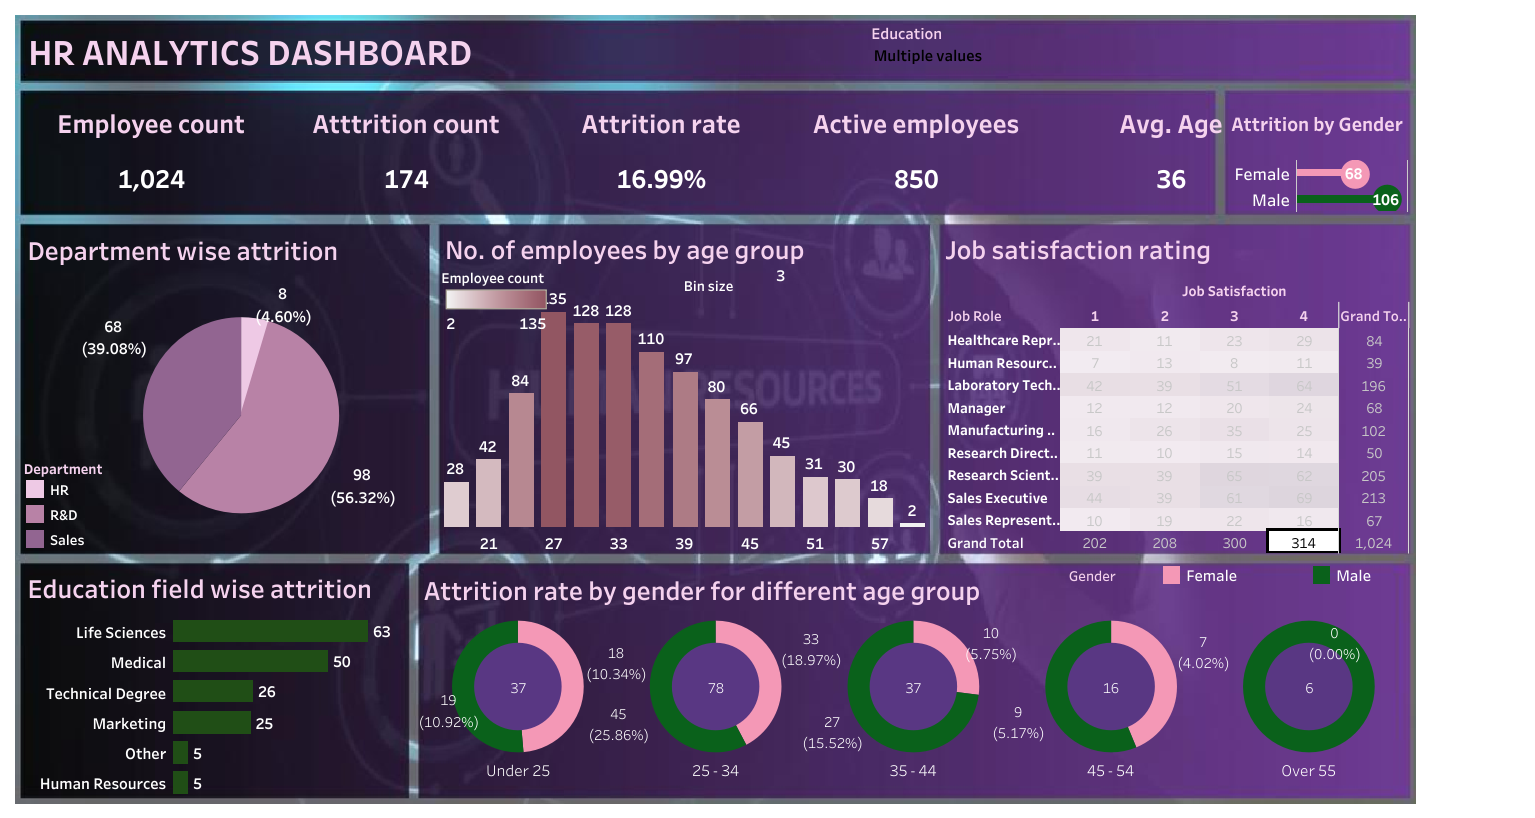

This screenshot's page, from the dashboard's own definition file:
{"tool":"tableau","page":{"name":"HR Analytics Dashboard","canvas":[1229,655],"ordinal":0},"visuals":[{"type":"image","param":"Image/Untitled presentation.jpg","box":[8,8,1213,639]},{"type":"text","box":[20.3,16,461.7,49.1]},{"type":"filter","title":"No. of employees by age group","param":"[federated.0ces5ai0ky8ia414cds3l0cklp27].[none:Education:nk]","box":[696.8,16,184.9,48.9]},{"type":"worksheet","title":"Attrition by gender","mark":"Automatic","rows":["Gender"],"cols":["Calculation_2573947963849408512","Calculation_2573947963849408512"],"box":[981,71,146,99]},{"type":"worksheet","title":"KPI","mark":"Automatic","box":[19.2,72.1,1019.5,100.2]},{"type":"worksheet","title":"No. of employees by age group","mark":"Automatic","rows":["Employee Count"],"cols":["Age (bin)"],"box":[352,179,391,264]},{"type":"worksheet","title":"Job satisfaction rating","mark":"Square","rows":["Job Role"],"cols":["Job Satisfaction"],"box":[752,179,375,263]},{"type":"worksheet","title":"Department wise attrition","mark":"Pie","box":[18.2,179.7,348.4,261.6]},{"type":"parameter","param":"[Parameters].[Parameter 1]","box":[547,211,199,34]},{"type":"legend","title":"No. of employees by age group","param":"[federated.0ces5ai0ky8ia414cds3l0cklp27].[sum:Employee Count:qk]","box":[351,212,103,48]},{"type":"legend","title":"Department wise attrition","param":"[federated.0ces5ai0ky8ia414cds3l0cklp27].[none:Department:nk]","box":[18.2,365.4,114.3,75.9]},{"type":"worksheet","title":"Education field wise attrition","mark":"Automatic","rows":["Education Field"],"cols":["Calculation_2573947963849408512"],"box":[18,450,308,188]},{"type":"legend","title":"Attrition rate by gender for different age group","param":"[federated.0ces5ai0ky8ia414cds3l0cklp27].[none:Gender:nk]","box":[855,450.3,354.8,32.9]},{"type":"worksheet","title":"Attrition rate by gender for different age group","mark":"Pie","rows":["Calculation_2573947964193075204","Calculation_2573947964193075204"],"cols":["CF_age band"],"box":[335,452,791,186]}]}

Visuals, with their boxes in screenshot pixels (x1, y1, x2, y2), scaled from the page's 1229x655 canvas onto the 1535x818 screenshot:
image: {"left": 10, "top": 10, "right": 1525, "bottom": 808}
text: {"left": 25, "top": 20, "right": 602, "bottom": 81}
"No. of employees by age group" filter: {"left": 870, "top": 20, "right": 1101, "bottom": 81}
"Attrition by gender" worksheet: {"left": 1225, "top": 89, "right": 1408, "bottom": 212}
"KPI" worksheet: {"left": 24, "top": 90, "right": 1297, "bottom": 215}
"No. of employees by age group" worksheet: {"left": 440, "top": 224, "right": 928, "bottom": 553}
"Job satisfaction rating" worksheet (Square marks): {"left": 939, "top": 224, "right": 1408, "bottom": 552}
"Department wise attrition" worksheet (Pie marks): {"left": 23, "top": 224, "right": 458, "bottom": 551}
parameter: {"left": 683, "top": 264, "right": 932, "bottom": 306}
"No. of employees by age group" legend: {"left": 438, "top": 265, "right": 567, "bottom": 325}
"Department wise attrition" legend: {"left": 23, "top": 456, "right": 165, "bottom": 551}
"Education field wise attrition" worksheet: {"left": 22, "top": 562, "right": 407, "bottom": 797}
"Attrition rate by gender for different age group" legend: {"left": 1068, "top": 562, "right": 1511, "bottom": 603}
"Attrition rate by gender for different age group" worksheet (Pie marks): {"left": 418, "top": 564, "right": 1406, "bottom": 797}
